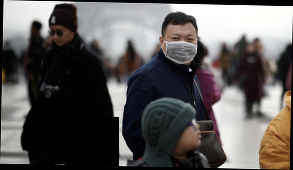with_mask: (163, 32, 200, 65)
without_mask: (181, 119, 203, 151), (48, 25, 72, 47)
